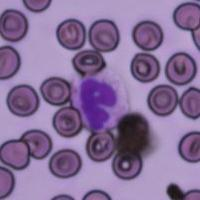N: (70, 70, 130, 132)
